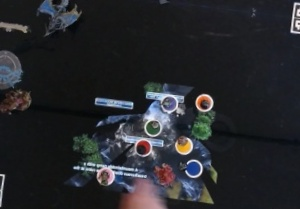blue: (181, 157, 204, 182)
green: (141, 117, 163, 138)
orange: (193, 90, 215, 113)
pink: (91, 165, 116, 186)
red: (132, 136, 153, 157)
violet: (157, 93, 181, 115)
yellow: (174, 134, 198, 155)
